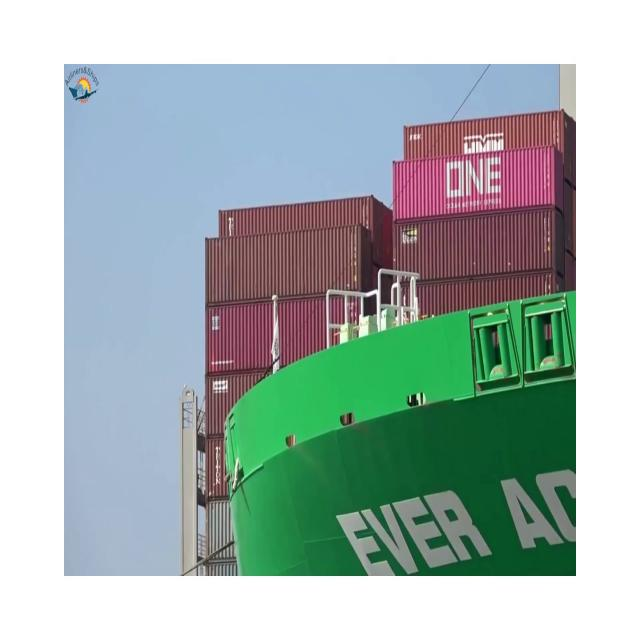OCR: (331, 458, 573, 574)
